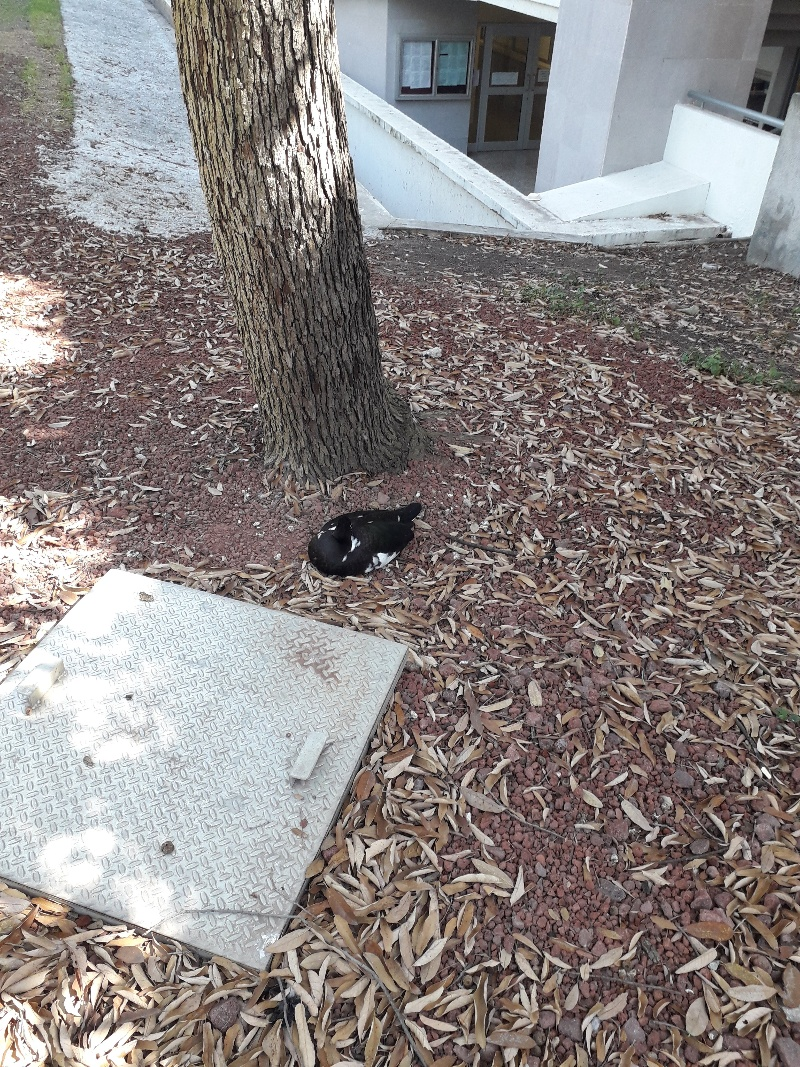pato: (310, 501, 426, 575)
